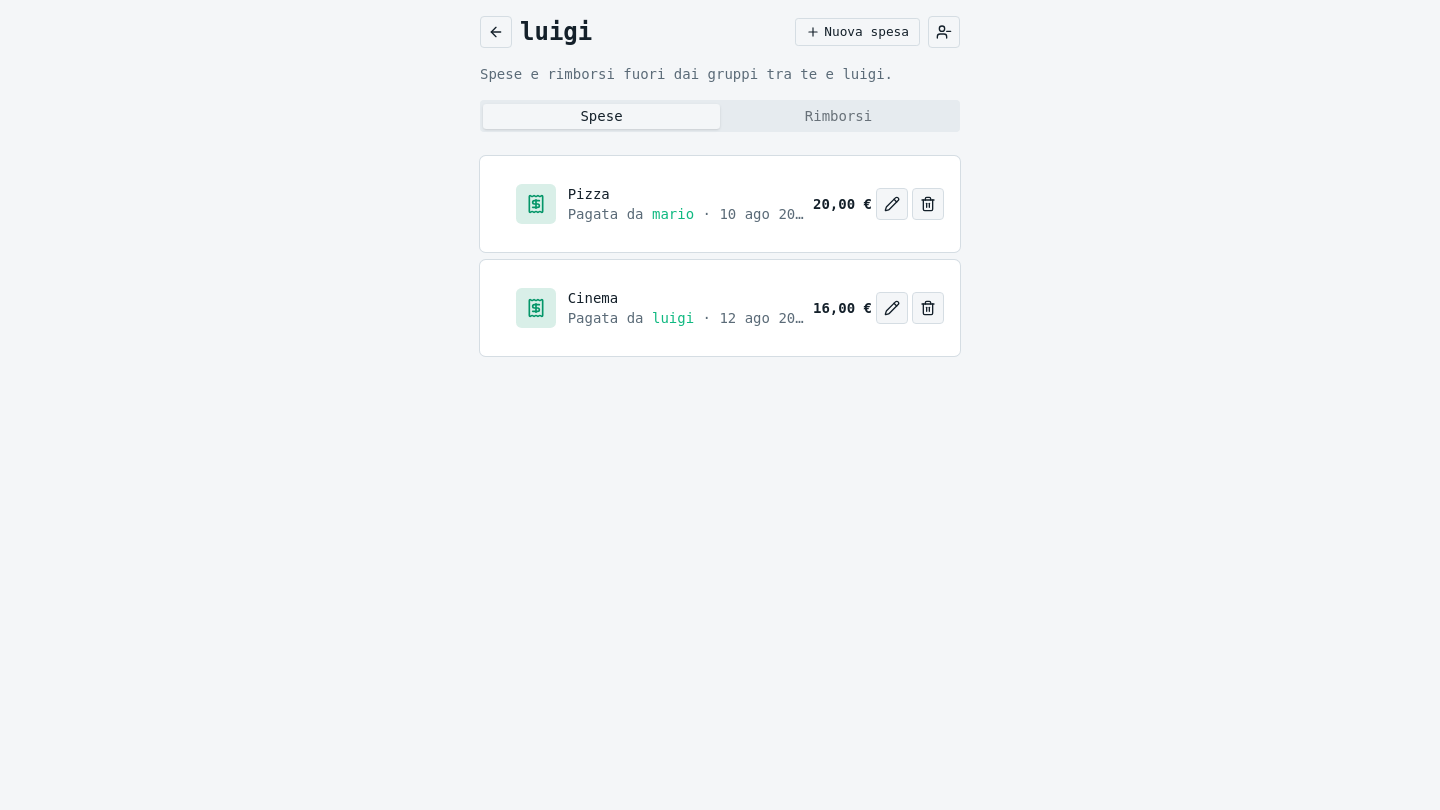
FriendDetailPage › il pulsante Nuova spesa apre il modale di creazione
This screenshot has width=1440, height=810.
Click the button "Nuova spesa". click: {"x": 858, "y": 32}
box: [795,18,920,46]
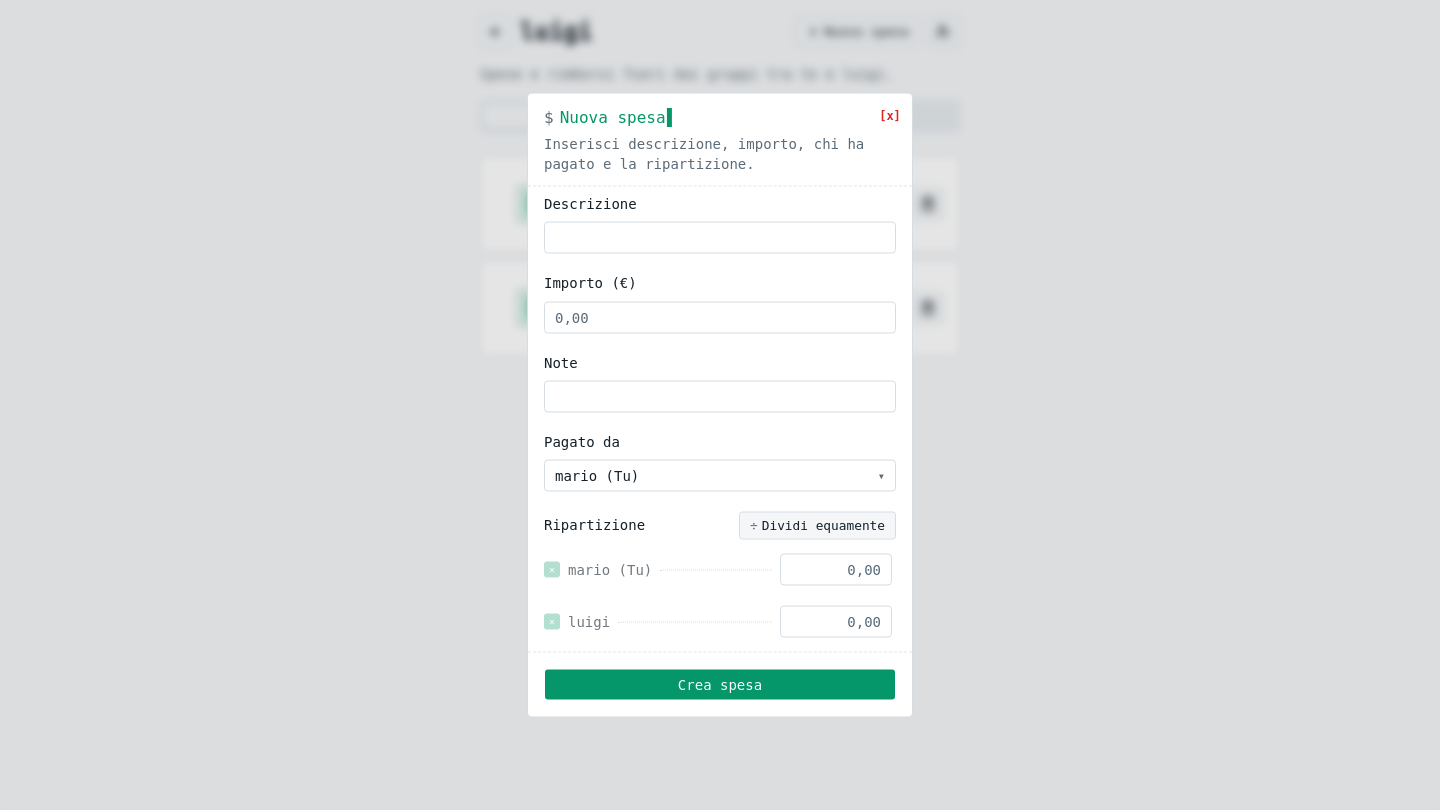
Now the field labelled "Descrizione" is shown, box [544,222,896,254]
Now the field labelled "Importo (€)" is shown, box [544,301,896,333]
Now the checkbox named "Partecipa mario" is checked, box [544,562,560,578]
